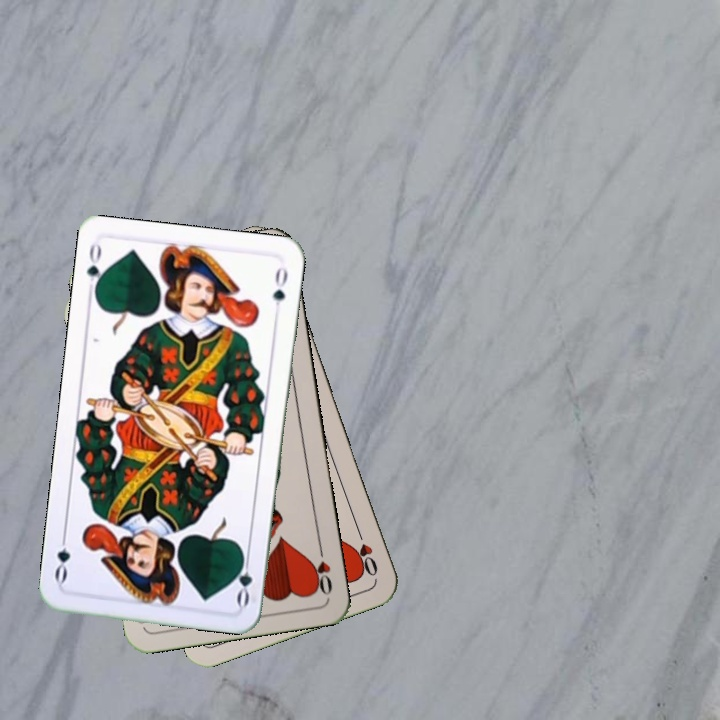GO: (82, 240, 108, 300), (232, 548, 255, 608)
HO: (352, 523, 381, 579), (308, 540, 335, 598)
